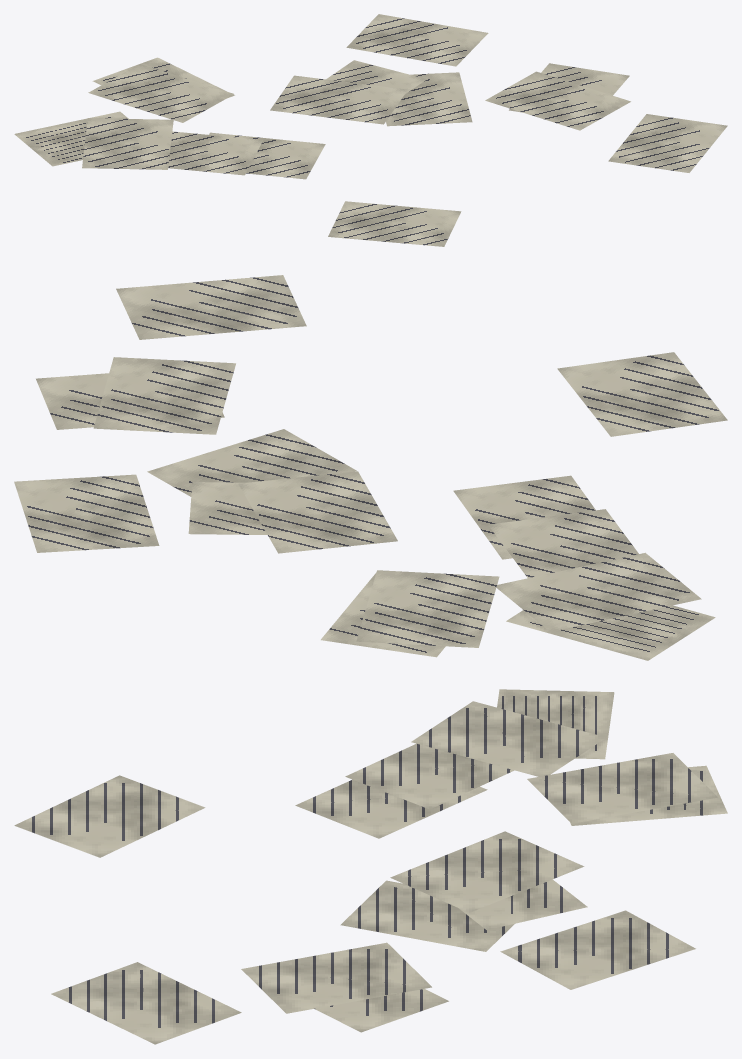
File: Lab_Papers.fbx
3 renders of one model, top to bottom at view 1: azimuth 30°, elevation 25°; view 2: azimuth 150°, elevation 25°; view 3: azimuth 270°, elevation 25°, orthographic. The views are drawn at different scales.
Visible parts, largest first — view 1: Lab_Papers; view 2: Lab_Papers; view 3: Lab_Papers.
Boxes of the visible parts, x1=… form: Lab_Papers: x1=14, y1=14, x2=727, y2=246; Lab_Papers: x1=14, y1=275, x2=727, y2=660; Lab_Papers: x1=14, y1=689, x2=727, y2=1044.
Bounding box in the file's own units: 1.54 × 0.0052 × 1.3.
